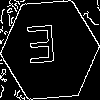E: (25, 25, 58, 73)
